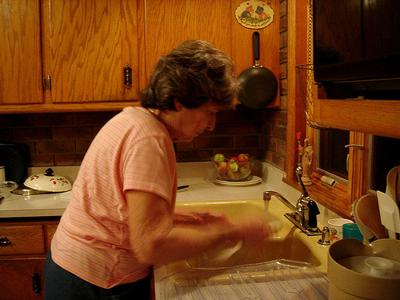person: (44, 39, 272, 298)
